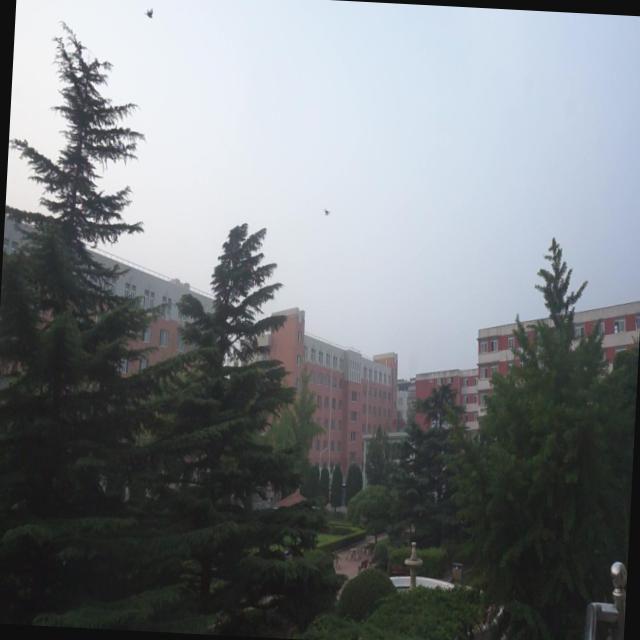drone: (321, 203, 332, 218)
